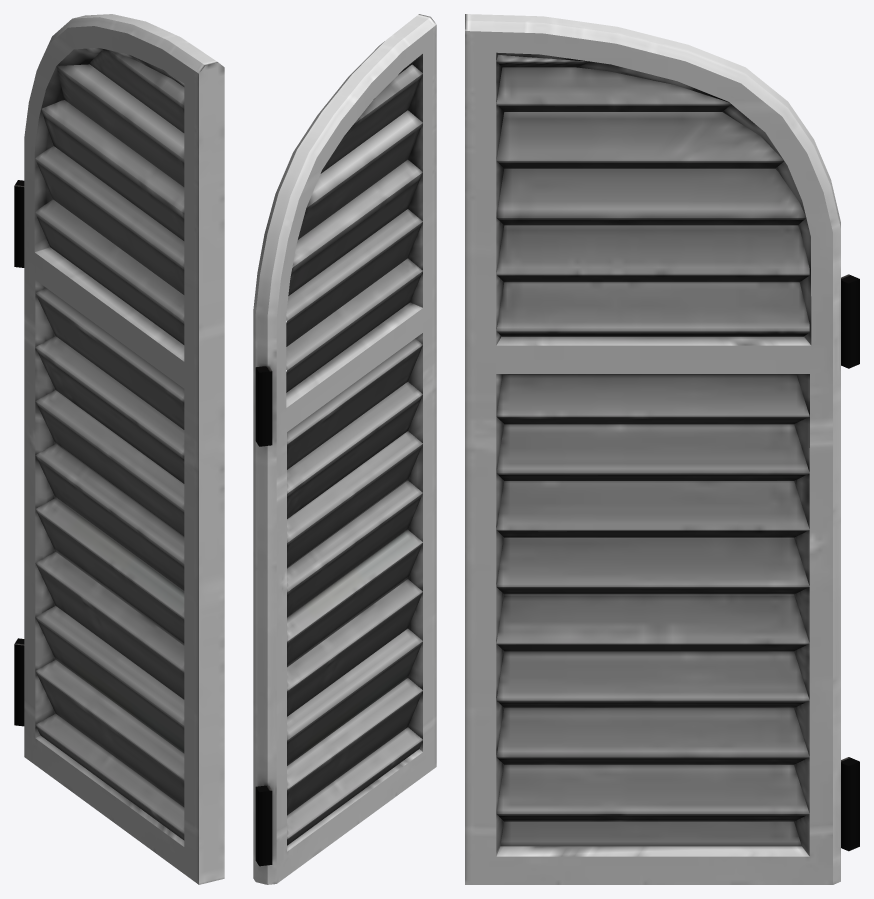
3 renders of one model, left to right at view 1: azimuth 30°, elevation 25°; view 2: azimuth 150°, elevation 25°; view 3: azimuth 270°, elevation 25°, orthographic. The views are drawn at different scales.
Parts seen in each view (by area): view 1: body0_model0_lod0_mesh0; view 2: body0_model0_lod0_mesh0; view 3: body0_model0_lod0_mesh0.
Boxes of the visible parts, box(x1,y1,x2,y2) form: body0_model0_lod0_mesh0: box(14, 14, 224, 884); body0_model0_lod0_mesh0: box(253, 14, 436, 884); body0_model0_lod0_mesh0: box(465, 14, 859, 884).
Size of the model in its own units: 4.41 by 121 by 50.41.
Materials: 1 (1 with a texture image).
